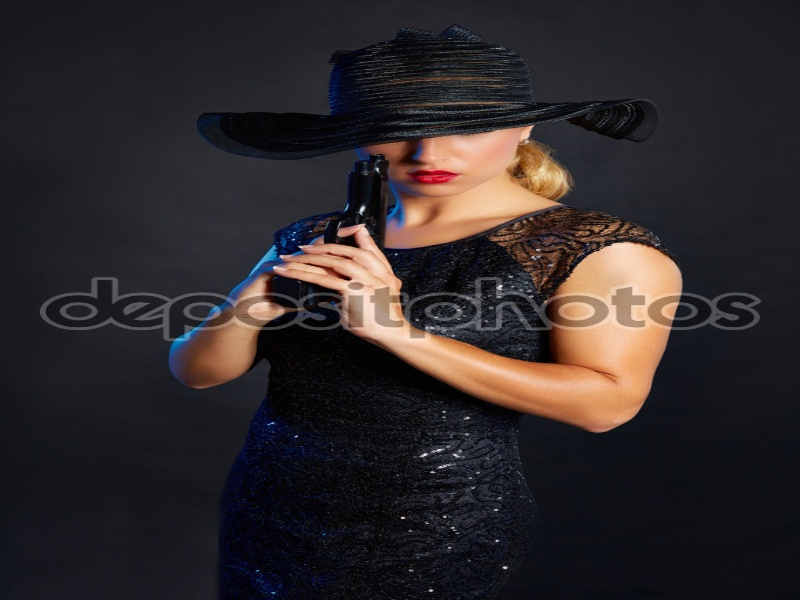gun: (269, 155, 384, 299)
